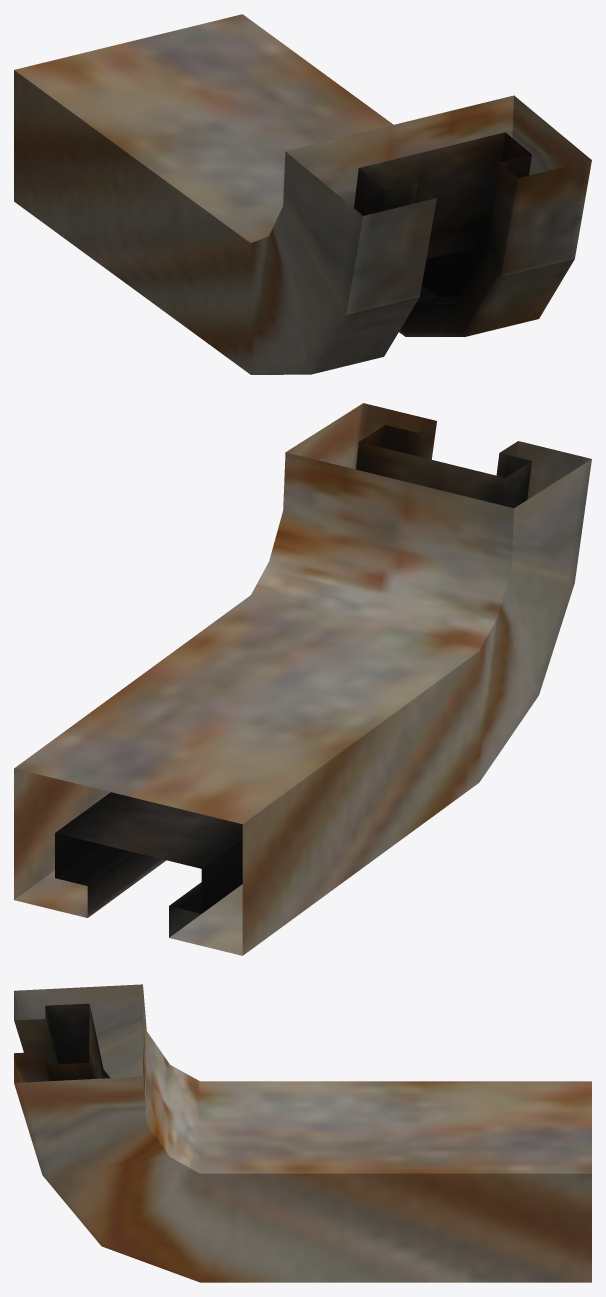
Rendered from LaneStart.FBX.
3 renders of one model, top to bottom at view 1: azimuth 30°, elevation 25°; view 2: azimuth 150°, elevation 25°; view 3: azimuth 270°, elevation 25°, orthographic. The views are drawn at different scales.
Parts seen in each view (by area): view 1: LaneLineEnd_mdl; view 2: LaneLineEnd_mdl; view 3: LaneLineEnd_mdl.
Part boxes in pixels (x1,y1,x2,y2): LaneLineEnd_mdl: [14, 14, 591, 374]; LaneLineEnd_mdl: [14, 403, 591, 955]; LaneLineEnd_mdl: [14, 984, 591, 1282].
Bounding box in the file's own units: 20 × 20.82 × 52.93.
Materials: 1 (1 with a texture image).
